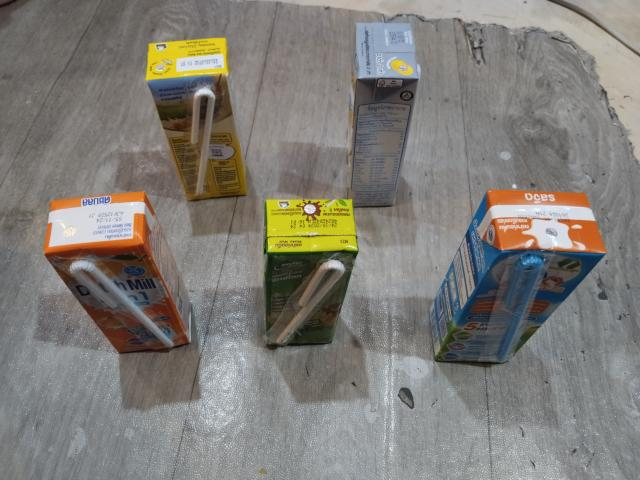drink_box: (417, 179, 616, 374), (39, 192, 200, 359), (139, 34, 261, 205), (259, 194, 366, 354), (344, 19, 419, 212)
